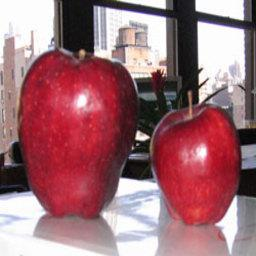apple: (16, 49, 138, 222), (150, 103, 241, 226)
